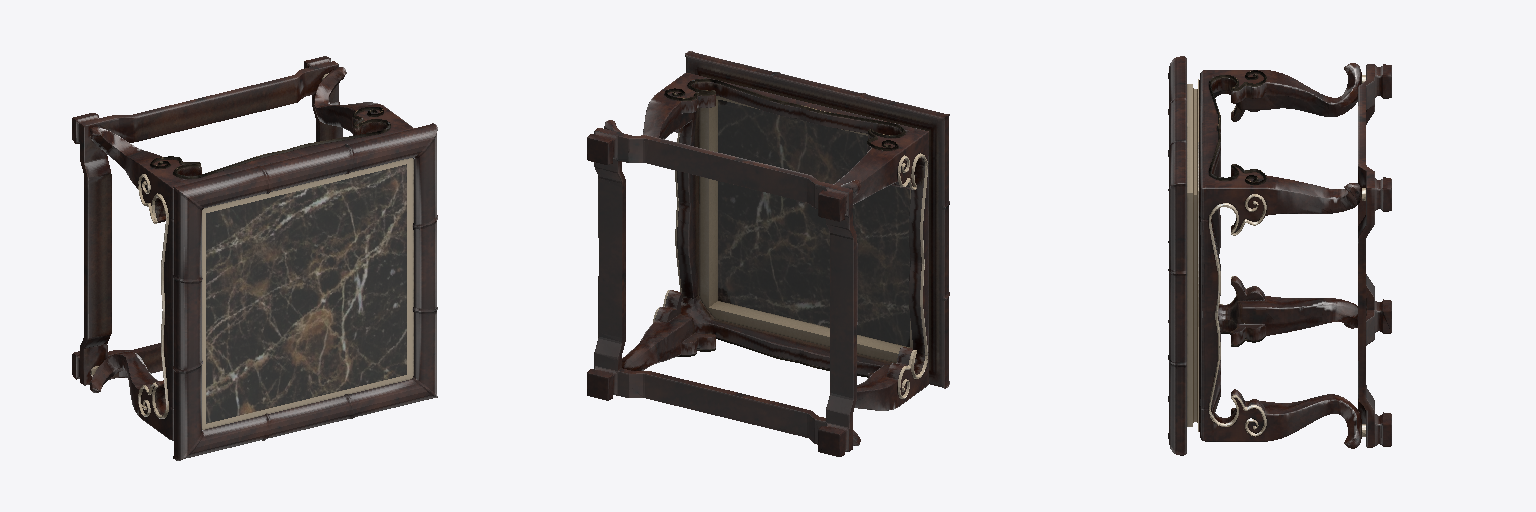
3 views of the same model, side by side, from view 1: azimuth 30°, elevation 25°; view 2: azimuth 150°, elevation 25°; view 3: azimuth 270°, elevation 25° (orthographic).
Bounding box in the file's own units: 0.6823 × 0.6807 × 0.5054.
Materials: 1 (1 with a texture image).